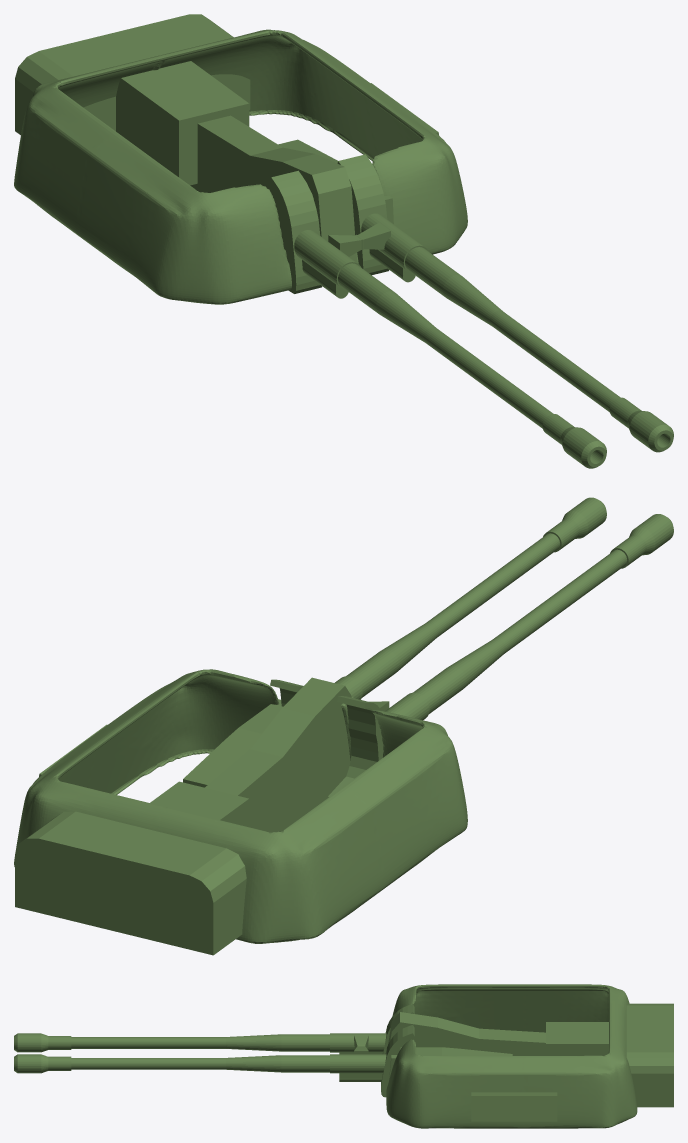
Rendered from 57-2-Turret.fbx.
The picture shows the model from 3 angles, top to bottom: view 1: azimuth 30°, elevation 25°; view 2: azimuth 150°, elevation 25°; view 3: azimuth 270°, elevation 25°; orthographic projection. The views are drawn at different scales.
Parts seen in each view (by area): view 1: Turret; view 2: Turret; view 3: Turret.
Boxes of the visible parts, x1,y1,x2,y2 form: Turret: (14, 14, 673, 468); Turret: (14, 497, 673, 955); Turret: (14, 984, 673, 1128).
Bounding box in the file's own units: 1012 × 311 × 2771.
